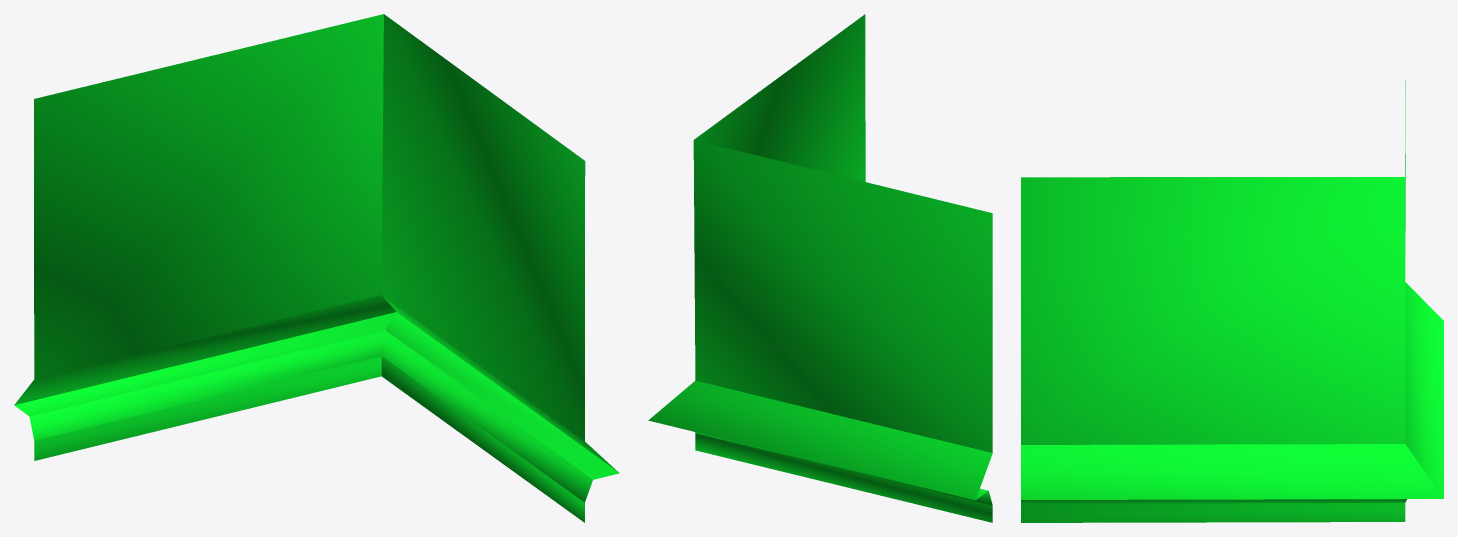
The model's file is 3x3m_innercornerwall.FBX.
3 views of the same model, side by side, from view 1: azimuth 30°, elevation 25°; view 2: azimuth 150°, elevation 25°; view 3: azimuth 270°, elevation 25° (orthographic). The views are drawn at different scales.
Visible parts, largest first — view 1: 3x3m_innercorner; view 2: 3x3m_innercorner; view 3: 3x3m_innercorner.
Boxes of the visible parts, bbox=[...] form: 3x3m_innercorner: bbox=[14, 14, 619, 522]; 3x3m_innercorner: bbox=[648, 14, 992, 522]; 3x3m_innercorner: bbox=[1021, 80, 1443, 522].
Size of the model in its own units: 334 by 300 by 332.
